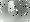person: (9, 3, 15, 16)
